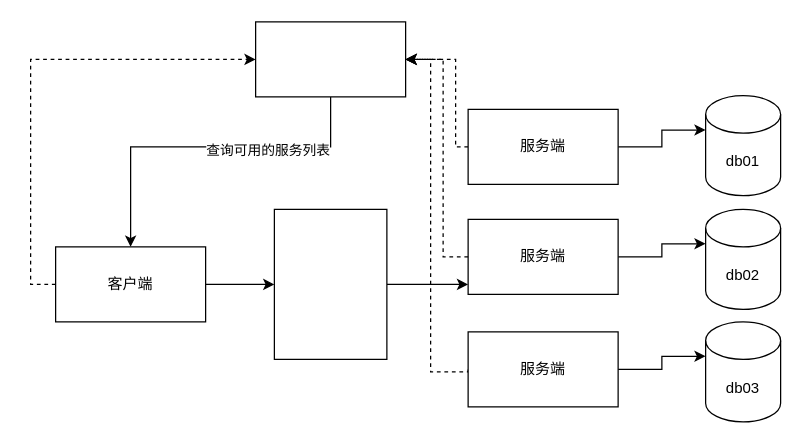
Some shapes in this 803 by 444 pixel diagram are drawn without their labels. Each missing label, with the centre of its shape:
Eureka （注册中心）: the point at 330,59
Ribbon （负载均衡）: the point at 330,283
